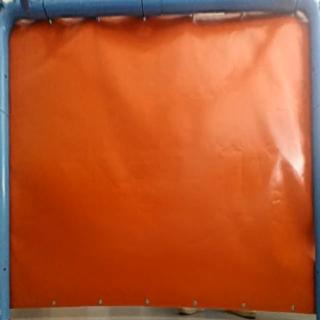Hit-hRxx: (270, 143, 289, 156)
